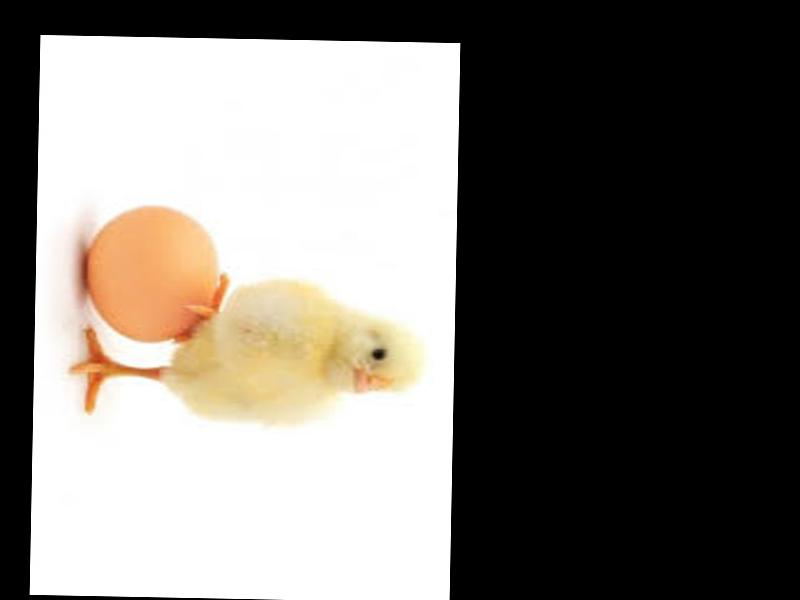Eggs: (85, 203, 225, 346)
